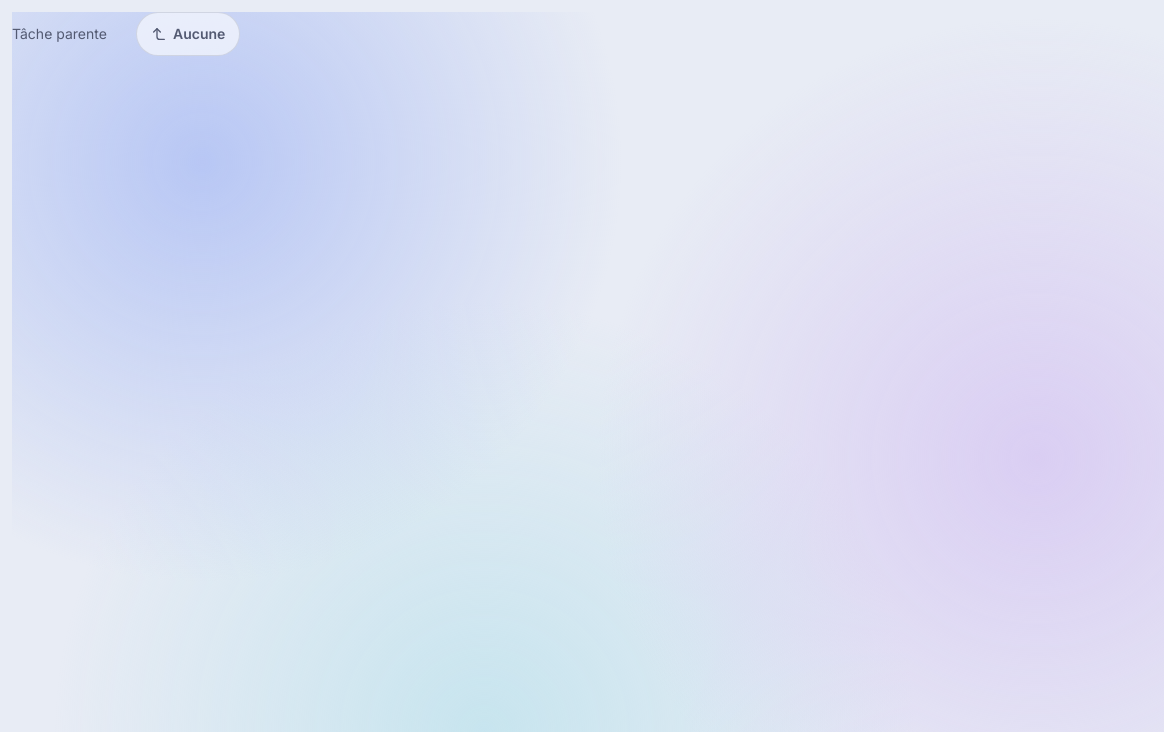
Test case: propriété « Tâche parente » › refus has_trashed_subtasks traduit sous le champ
The width and height of the screenshot is (1164, 732).
Step 1. Click the button with aria-label "Tâche parente : Aucune" → click(188, 34), box [136,12,240,56]
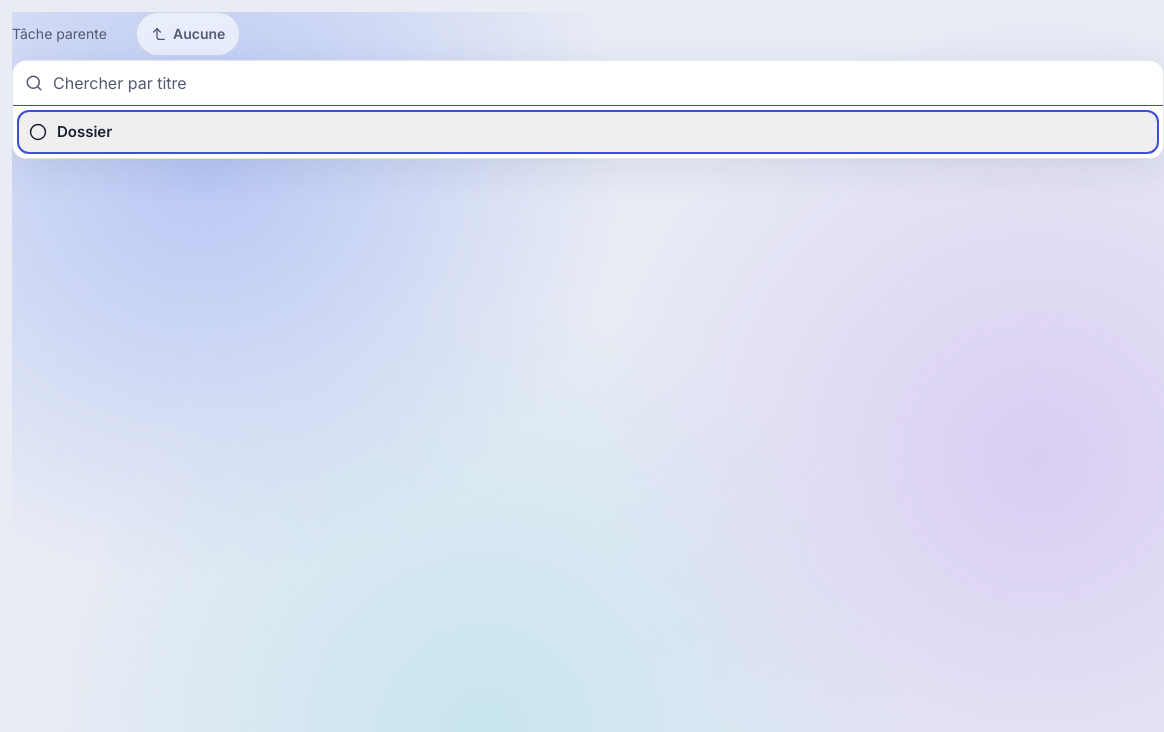
Step 2. Click the option "Dossier" → click(85, 131), box [17,110,1159,154]
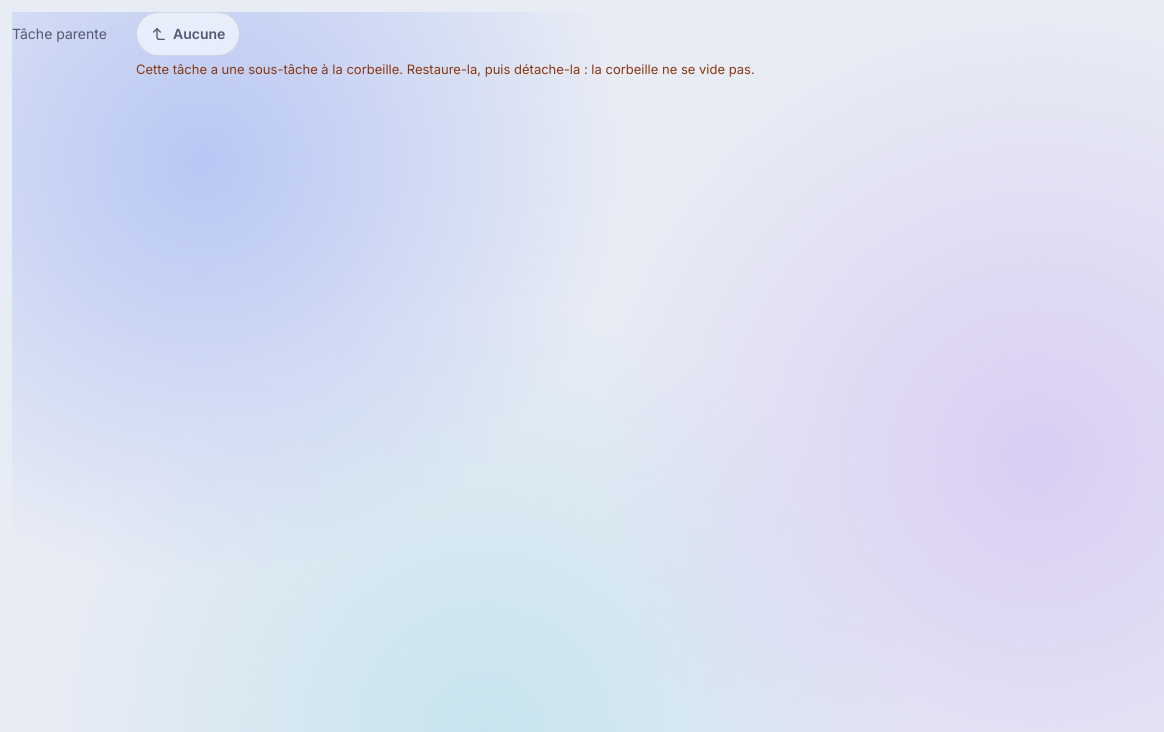
Now the message shows "Cette tâche a une sous-tâche à la corbeille. Restaure-la, puis détache-la : la corbeille ne se vide pas.", box [136,61,755,77]
